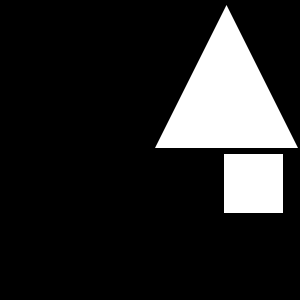circle: (224, 154, 283, 213)
triangle: (155, 5, 298, 148)
